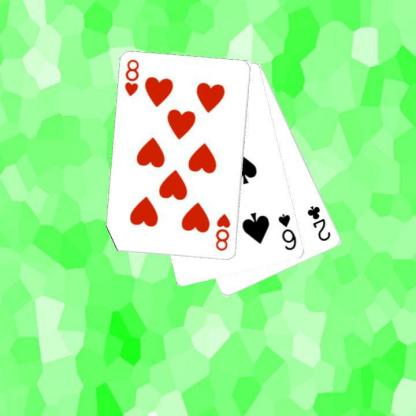2C: (305, 203, 332, 243)
6S: (276, 211, 298, 252)
8H: (213, 212, 232, 252), (122, 57, 140, 98)
